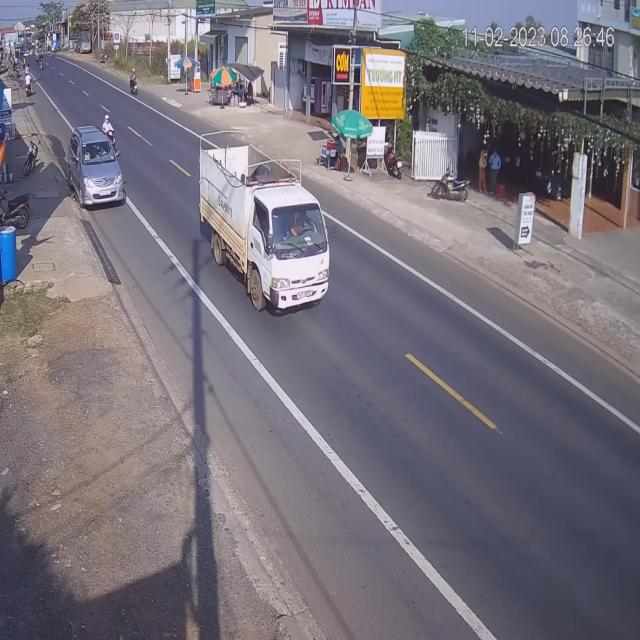car: (68, 129, 124, 210)
motorbike: (102, 112, 115, 143), (130, 69, 139, 97)
truck: (201, 134, 334, 313)
